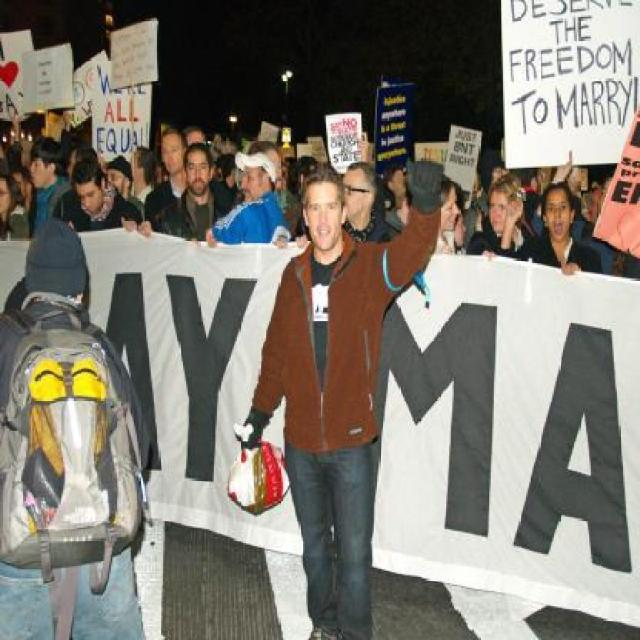backpack: (0, 317, 148, 580)
